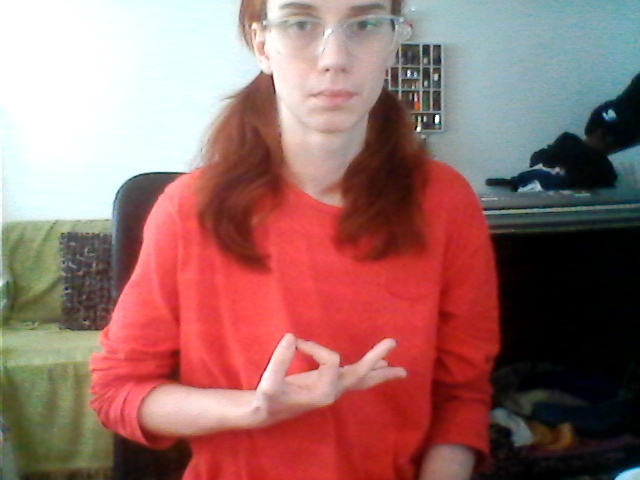co: (247, 328, 419, 422)
